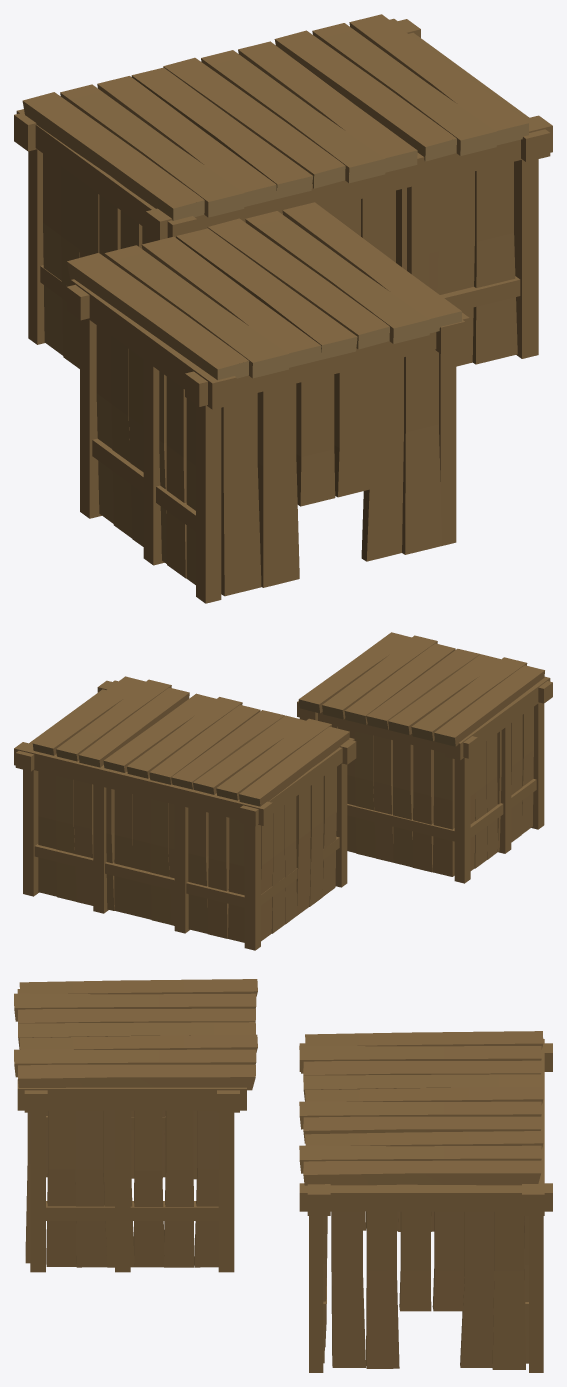
File: huts.glb
3 renders of one model, top to bottom at view 1: azimuth 30°, elevation 25°; view 2: azimuth 150°, elevation 25°; view 3: azimuth 270°, elevation 25°, orthographic. The views are drawn at different scales.
Parts seen in each view (by area): view 1: Houses_FirstAge_3_Level3; view 2: Houses_FirstAge_3_Level3; view 3: Houses_FirstAge_3_Level3.
Boxes of the visible parts, bbox=[...] form: Houses_FirstAge_3_Level3: bbox=[14, 14, 552, 603]; Houses_FirstAge_3_Level3: bbox=[14, 632, 552, 950]; Houses_FirstAge_3_Level3: bbox=[14, 979, 552, 1372].
Bounding box in the file's own units: 1.32 × 0.5741 × 1.44.
